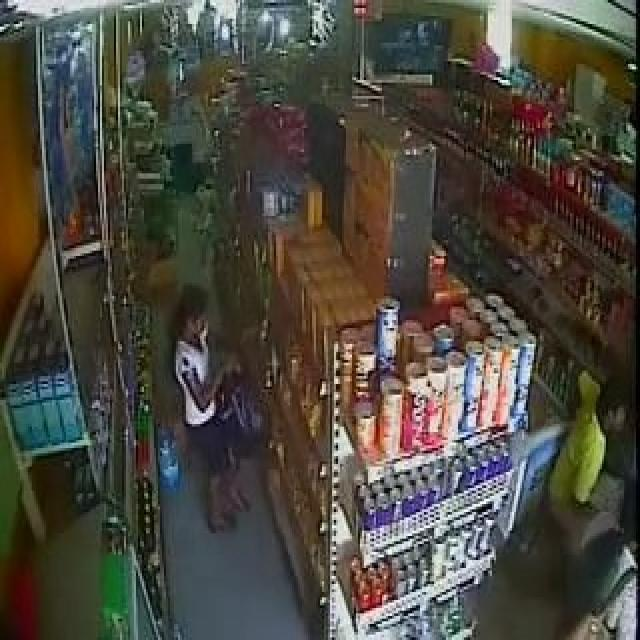Shoplifting: (178, 267, 272, 543)
